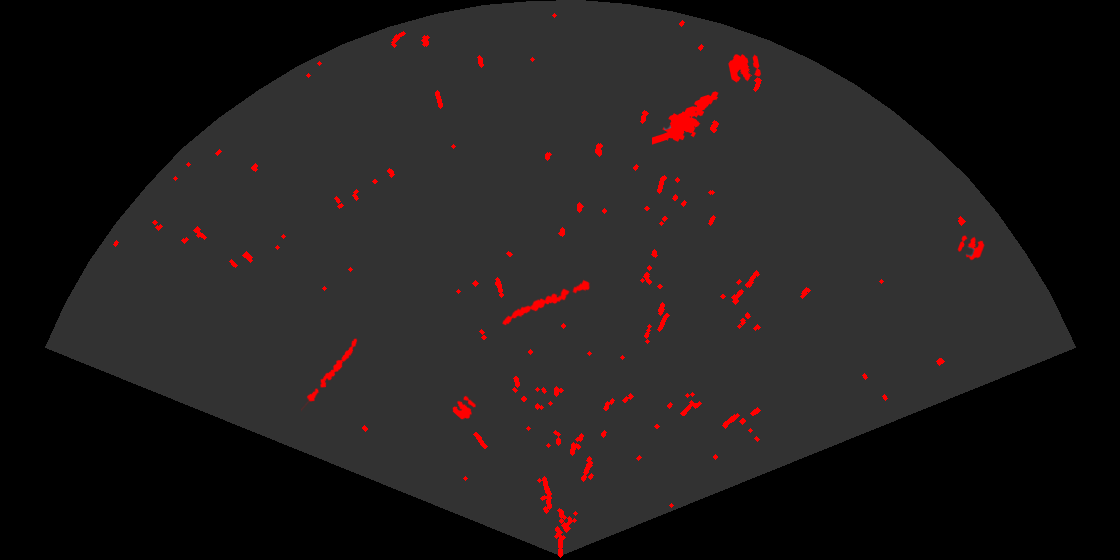ball: (727, 52, 763, 84), (956, 234, 986, 262), (451, 394, 478, 421)
chain: (501, 278, 592, 327), (301, 337, 359, 412)
frogman: (652, 90, 720, 146)
